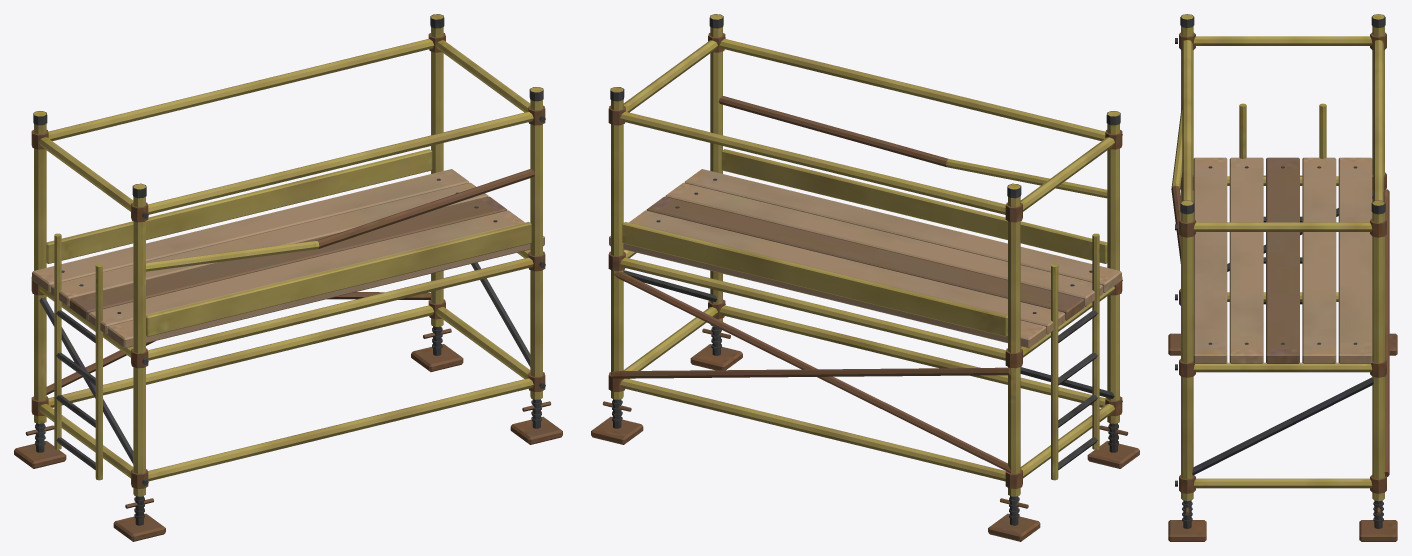
File: CS01_scaffolding_section_v2.glb
3 views of the same model, side by side, from view 1: azimuth 30°, elevation 25°; view 2: azimuth 150°, elevation 25°; view 3: azimuth 270°, elevation 25° (orthographic). The views are drawn at different scales.
Visible parts, largest first — view 1: Square load spreading foot; view 2: Square load spreading foot; view 3: Square load spreading foot.
Boxes of the visible parts, x1,y1,x2,y2 form: Square load spreading foot: (14,14,562,541); Square load spreading foot: (591,14,1139,541); Square load spreading foot: (1168,14,1397,541).
Size of the model in its own units: 3 by 2.29 by 1.44.
Materials: 5 (5 with a texture image).
